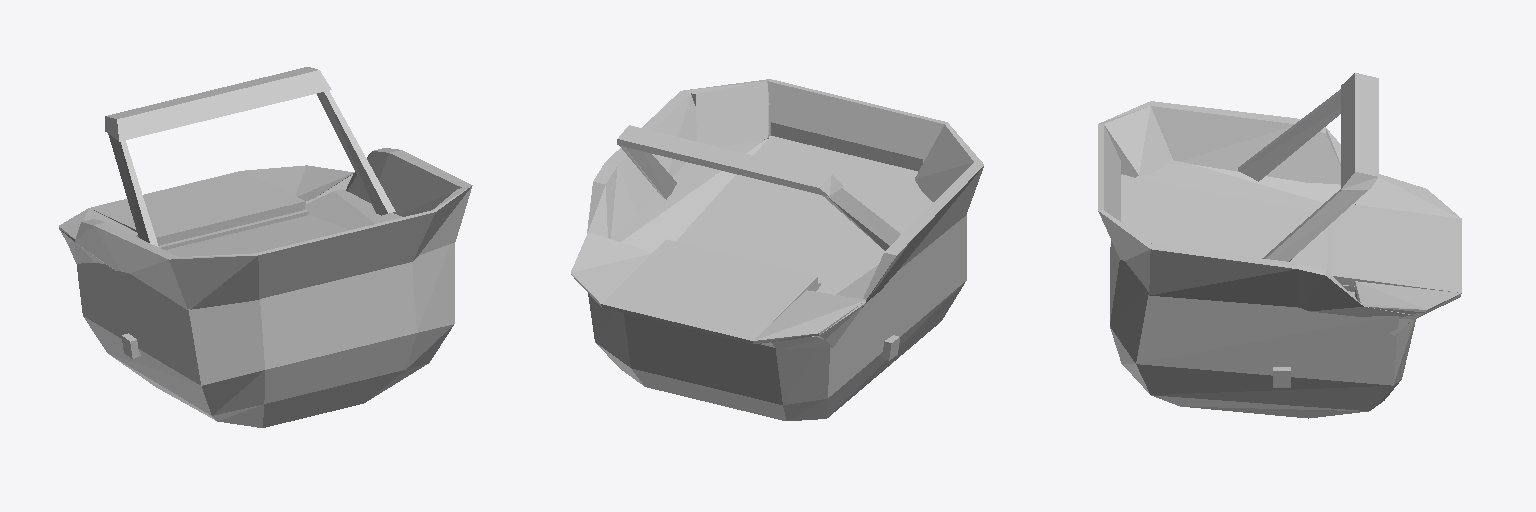
Rendered from helmet.Stahlhelm_M-40.obj.
3 renders of one model, left to right at view 1: azimuth 30°, elevation 25°; view 2: azimuth 150°, elevation 25°; view 3: azimuth 270°, elevation 25°, orthographic.
Visible parts, largest first — view 1: headModel; view 2: headModel; view 3: headModel.
Boxes of the visible parts, <box> form: headModel: <box>59,67,472,427</box>; headModel: <box>571,79,983,420</box>; headModel: <box>1098,73,1461,418</box>.
Bounding box in the file's own units: 12.2 × 10.1 × 12.45.